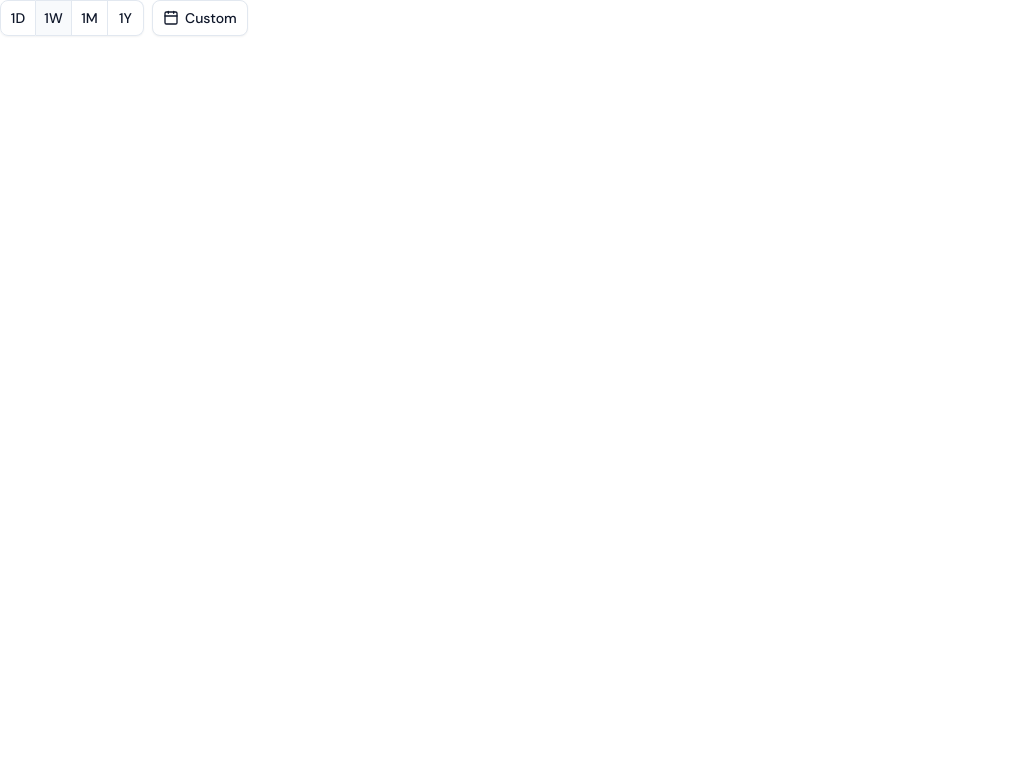
Scenario: TimeRangeFilter › the Apply button is never disabled
The image size is (1024, 768).
Click the button with aria-label "choose a custom date range" at [200, 18], box [152, 0, 248, 36]
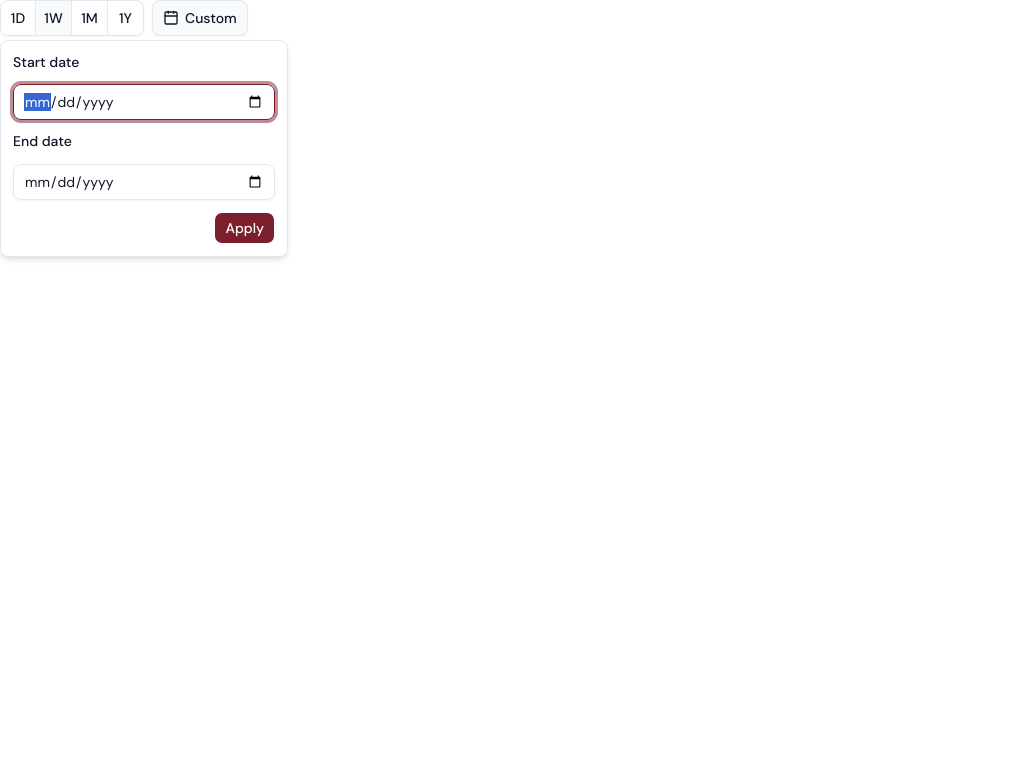
expect the button "Apply" is enabled: met, box [214, 212, 275, 244]
